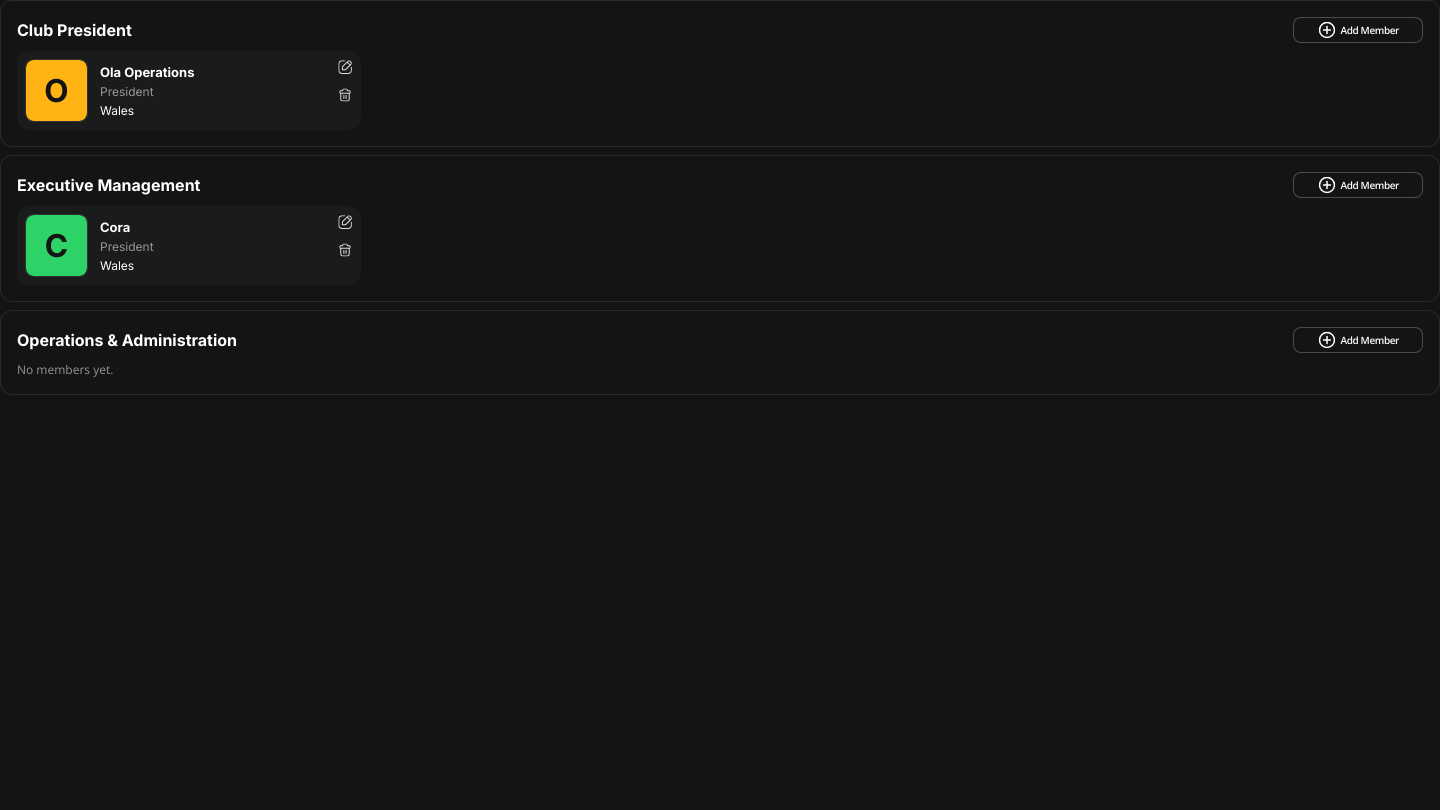
Test: StaffPanelComponent › adds a member to the section whose button was used
Click the button "Add Member" in the row of "Operations & Administration" at (1358, 340), box [1293, 327, 1423, 353]
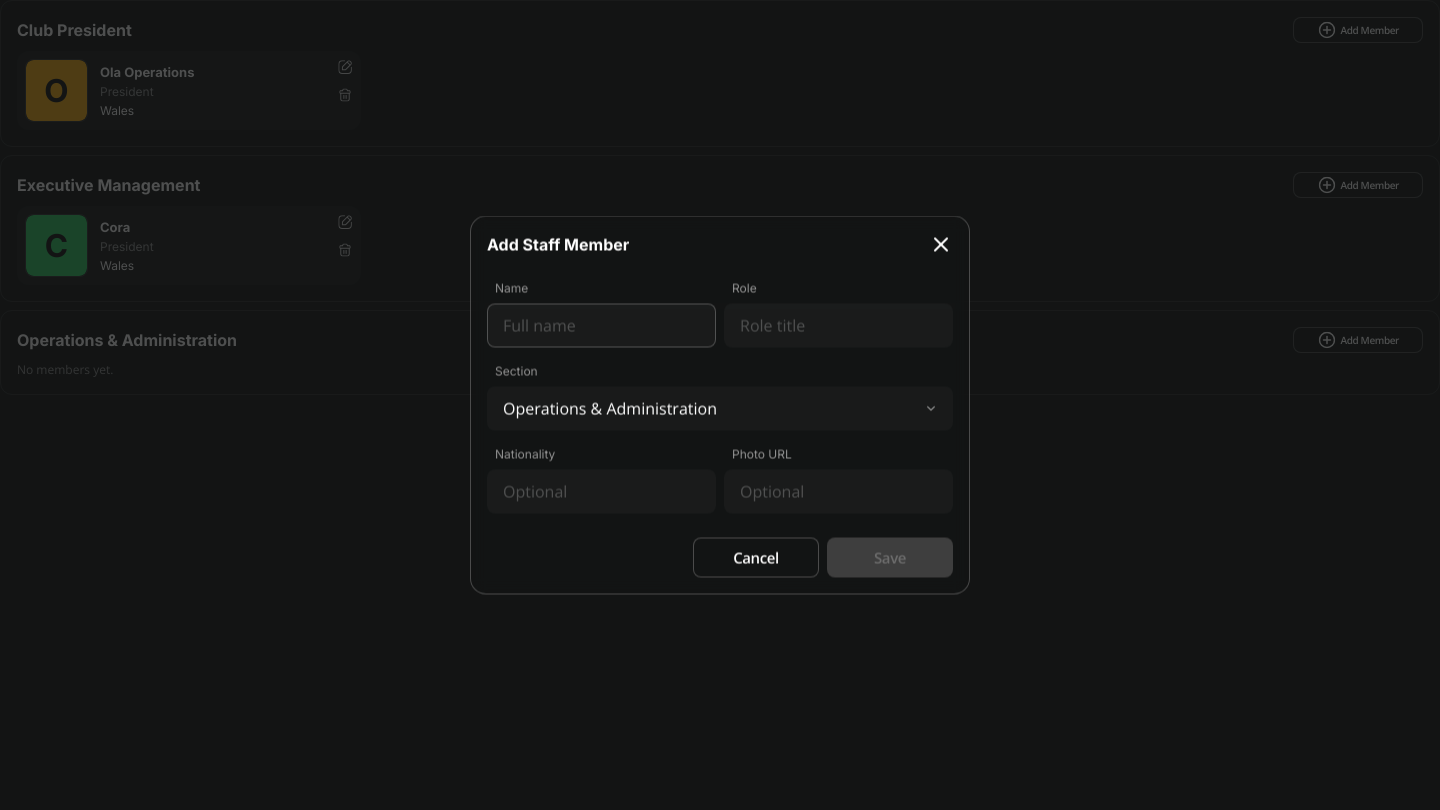
Result: the heading "Add Staff Member" is shown at [487, 234, 629, 254]
